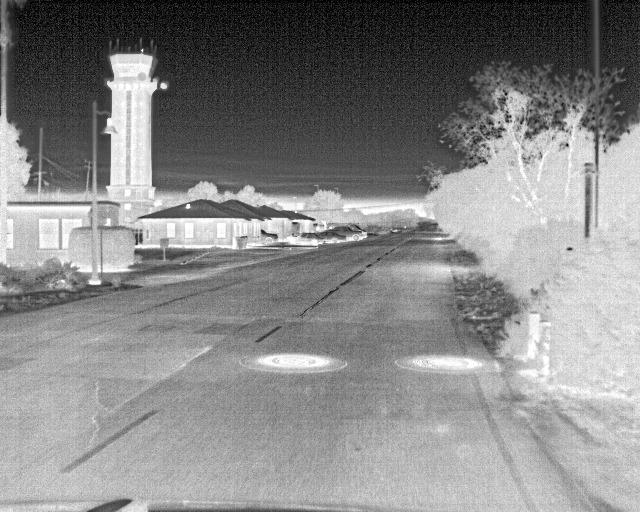car: (286, 233, 323, 246), (317, 228, 343, 243), (329, 226, 358, 239), (340, 225, 367, 238), (259, 227, 279, 244)
